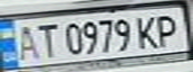0: (60, 19, 84, 56)
7: (97, 17, 118, 54)
9: (112, 16, 136, 52), (78, 17, 100, 54)
A: (12, 21, 42, 61)
K: (133, 12, 163, 50)
P: (151, 11, 187, 47)
T: (33, 20, 60, 58)
